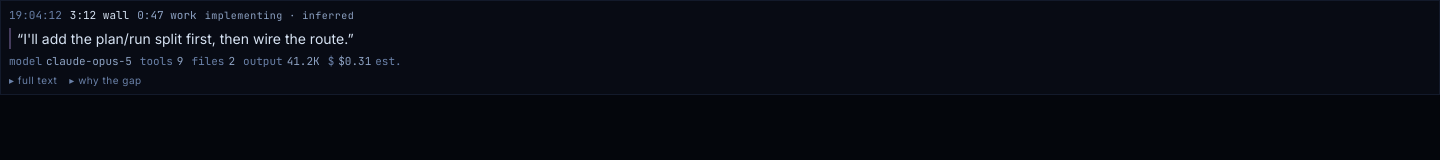
phase wears its inference › discloses the evidence behind it
The image size is (1440, 160).
Hover over the element with test id "disclosure" showing "implementing · inferred": (279, 16) top-left (205, 8), bottom-right (354, 23)
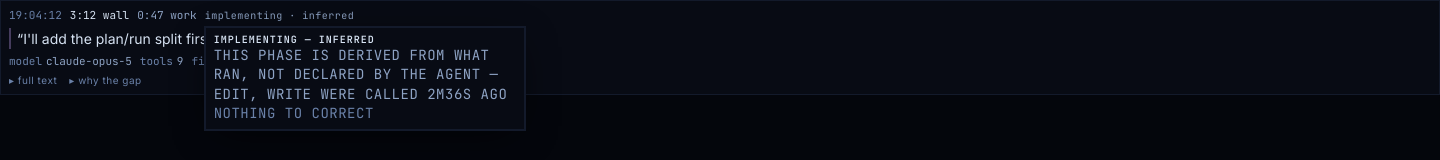
Expected: the text with test id "disclosure-why" shows "Edit, Write were called", top-left (214, 46), bottom-right (507, 102)
